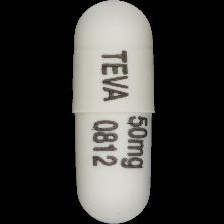33261-692: (0, 0, 224, 224)
